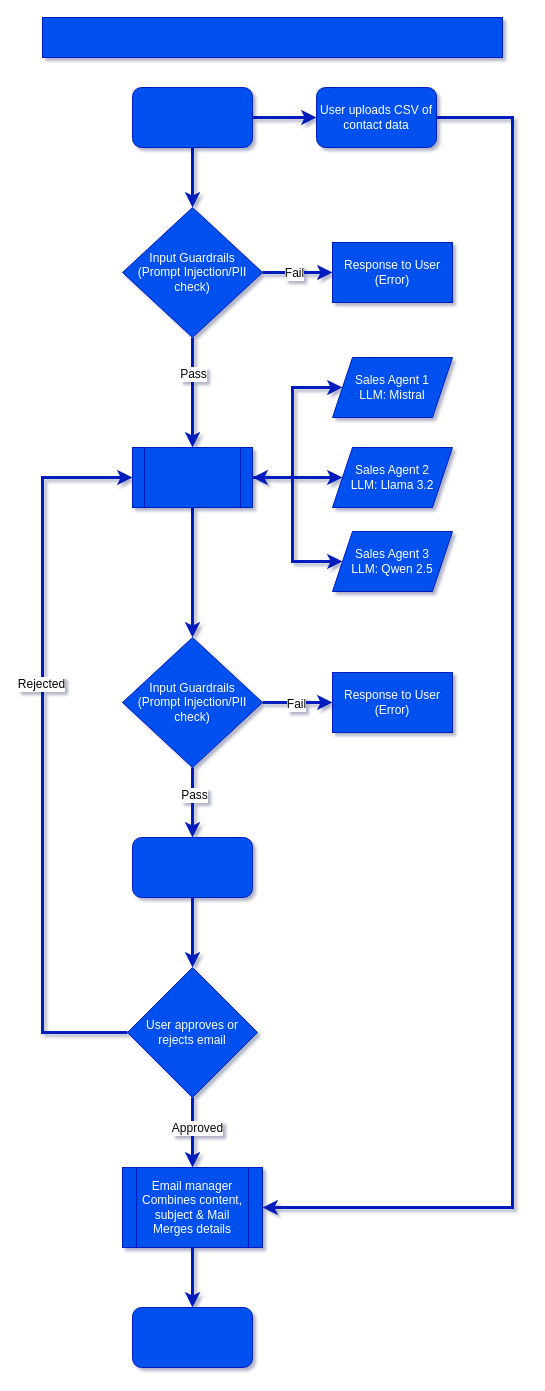
Some shapes in this 545 by 1391 pixel diagram are drawn without their labels. The shapes that lost their labels are listed below. From the top down, each one's box as (x1, y1, x2, y2) in pixels, then its label:
(42, 16, 502, 58): Sales Agent Agentic Workflow
(132, 86, 252, 148): User Input
(132, 446, 252, 508): Sales Manager Agent Orchestrates email generation
(132, 836, 252, 898): Select Emaili presented to user
(132, 1306, 252, 1368): Email sent
